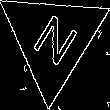N_SW: (25, 7, 80, 72)
